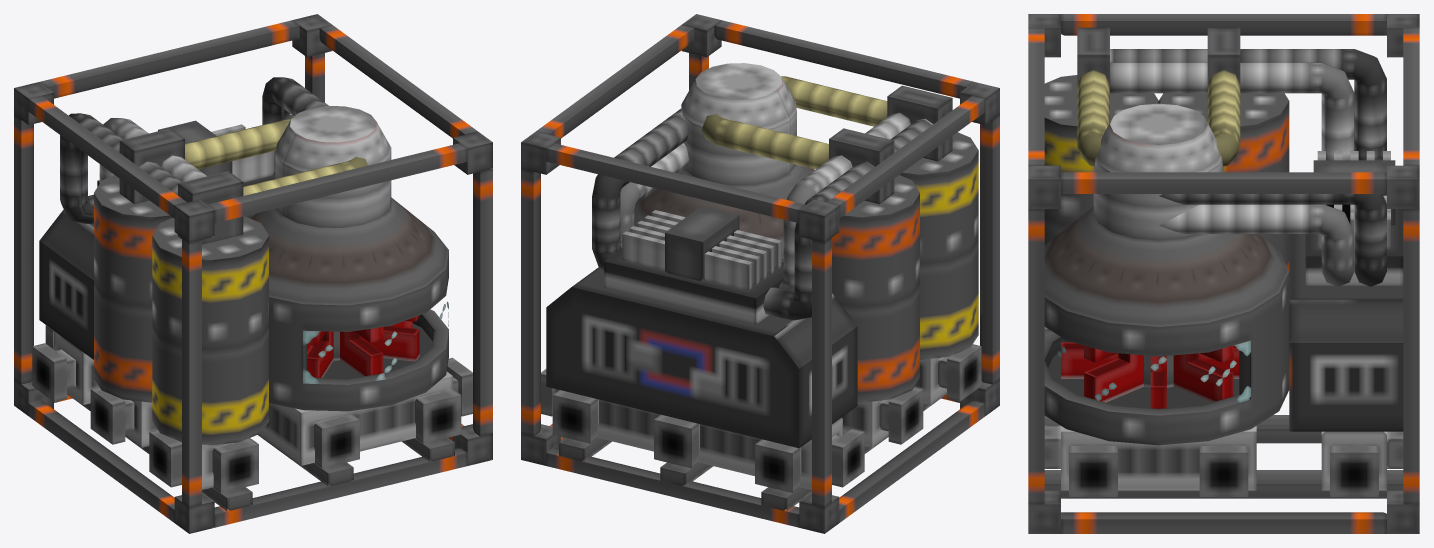
File: machine_chemical_plant_frame.obj
3 views of the same model, side by side, from view 1: azimuth 30°, elevation 25°; view 2: azimuth 150°, elevation 25°; view 3: azimuth 270°, elevation 25° (orthographic). The views are drawn at different scales.
Visible parts, largest first — view 1: Base, Frame, Spinner, Slider; view 2: Base, Frame, Slider; view 3: Base, Frame, Spinner, Slider.
Boxes of the visible parts, box(x1,y1,x2,y2) form: Base: box(14, 77, 492, 533); Frame: box(14, 14, 492, 507); Spinner: box(307, 315, 419, 377); Slider: box(158, 120, 232, 176); Base: box(521, 63, 999, 533); Frame: box(521, 14, 999, 507); Slider: box(665, 206, 739, 280); Base: box(1028, 27, 1419, 533); Frame: box(1028, 14, 1419, 504); Spinner: box(1061, 342, 1239, 408); Slider: box(1313, 160, 1395, 225).
Bounding box in the file's own units: 3 × 3 × 3.
